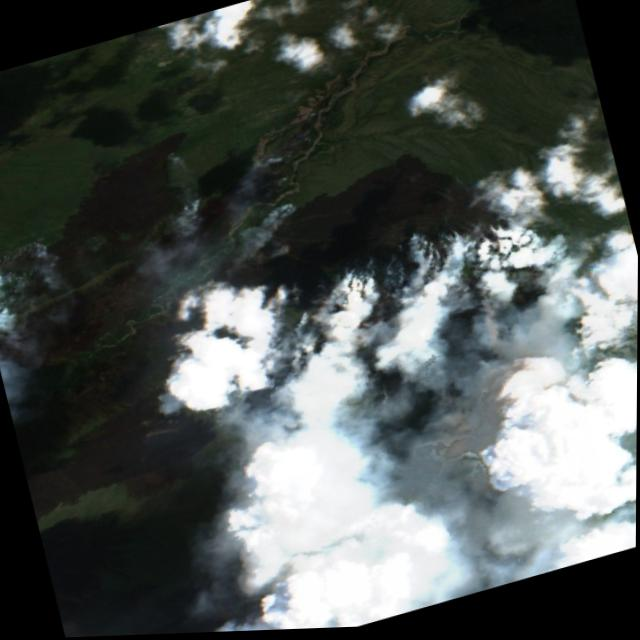fire: (190, 176, 576, 503), (0, 227, 69, 335)
